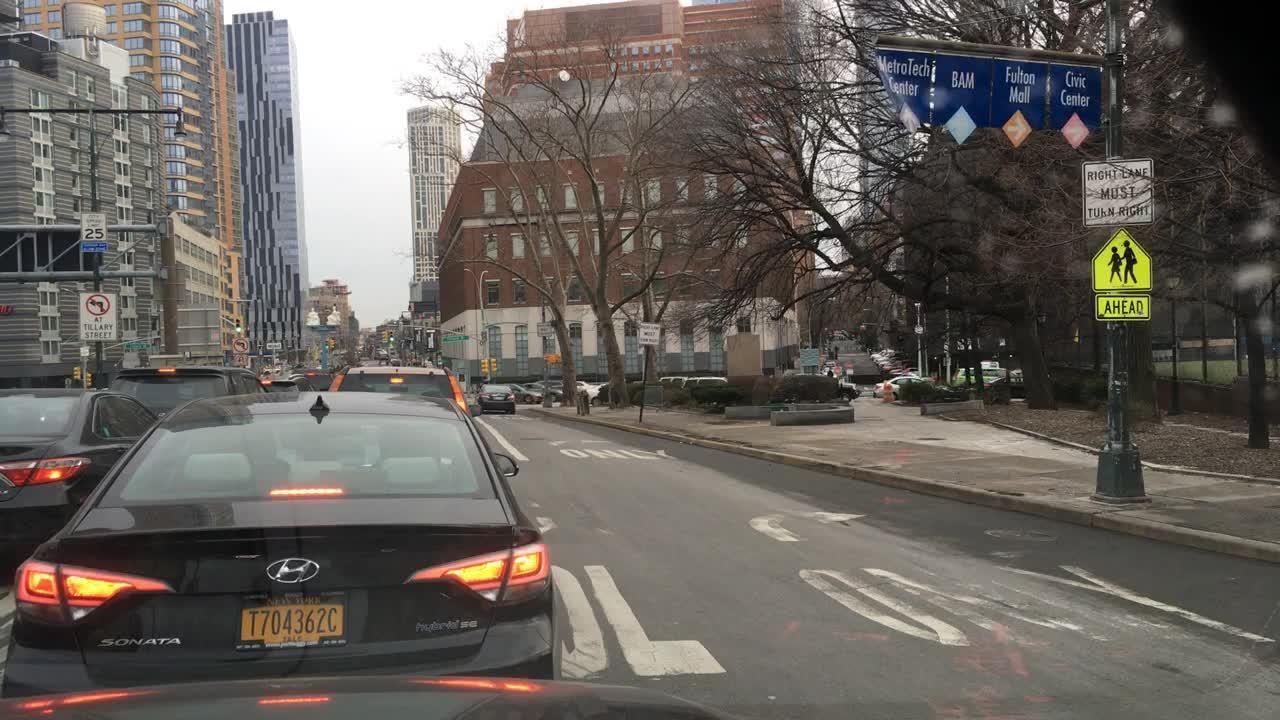Hyundai: (261, 552, 323, 590)
